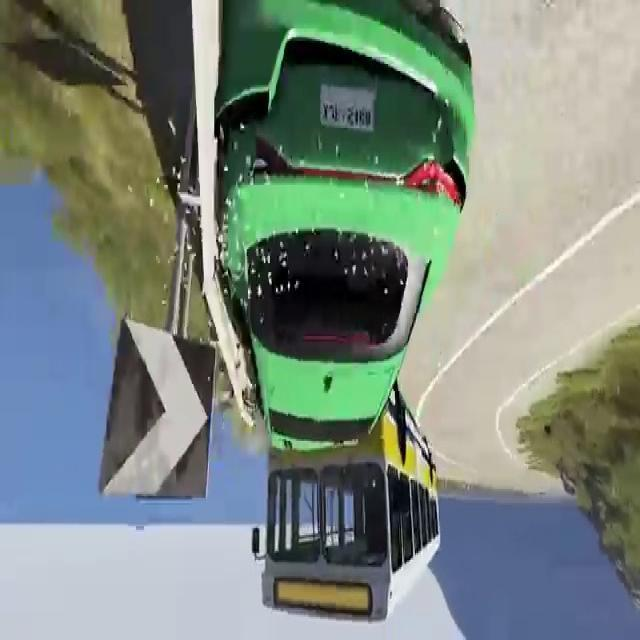severe: (204, 0, 476, 632)
